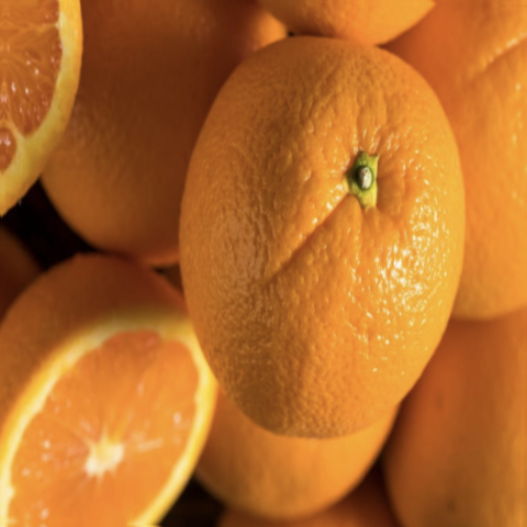orange: (161, 12, 504, 472)
